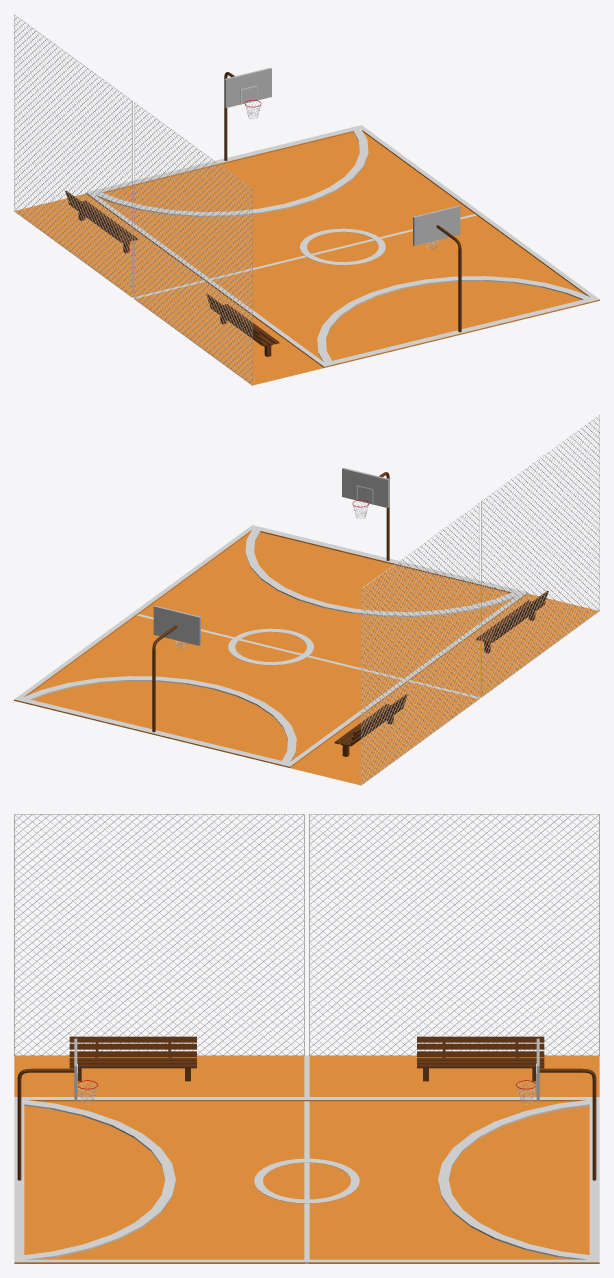
File: basketcourt.fbx
3 renders of one model, top to bottom at view 1: azimuth 30°, elevation 25°; view 2: azimuth 150°, elevation 25°; view 3: azimuth 270°, elevation 25°, orthographic. The views are drawn at different scales.
Parts seen in each view (by area): view 1: Plane, Circle.002, Cube, Cube.001, Circle.001, Circle; view 2: Plane, Circle.002, Cube, Cube.001, Circle.001, Circle; view 3: Plane, Cube.001, Circle.002, Circle, Circle.001, Circle.003.
Boxes of the visible parts, box(x1,y1,x2,y2) form: Plane: box(14, 14, 599, 385); Circle.002: box(95, 128, 594, 364); Cube: box(224, 67, 460, 245); Cube.001: box(65, 190, 279, 356); Circle.001: box(300, 228, 385, 265); Circle: box(224, 72, 461, 332); Plane: box(14, 414, 599, 785); Circle.002: box(23, 527, 522, 762); Cube: box(153, 467, 389, 645); Cube.001: box(334, 590, 548, 756); Circle.001: box(228, 628, 313, 665); Circle: box(152, 472, 389, 732); Plane: box(14, 814, 599, 1263); Cube.001: box(69, 1036, 544, 1081); Circle.002: box(17, 1099, 595, 1260); Circle: box(17, 1068, 596, 1180); Circle.001: box(254, 1158, 359, 1203); Circle.003: box(78, 1080, 535, 1104).
Bounding box in the file's own units: 1510 × 825 × 1796.
